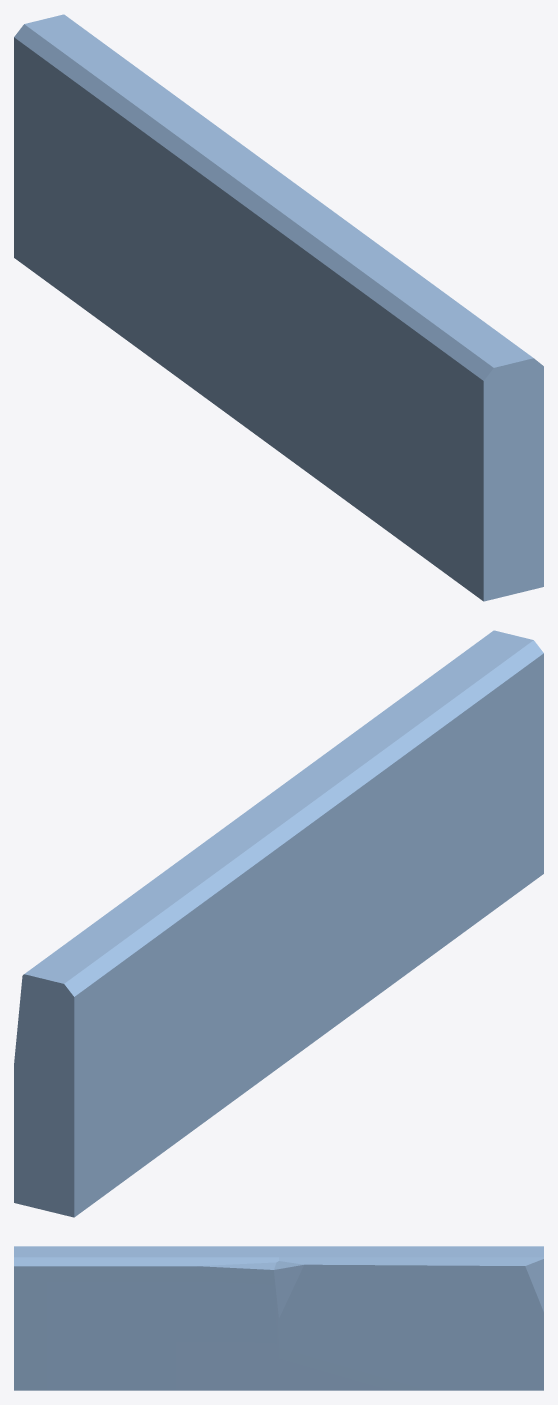
Rendered from wall_.fbx.
3 views of the same model, one above another, from view 1: azimuth 30°, elevation 25°; view 2: azimuth 150°, elevation 25°; view 3: azimuth 270°, elevation 25° (orthographic). The views are drawn at different scales.
Visible parts, largest first — view 1: duvar; view 2: duvar; view 3: duvar.
Part boxes in pixels (bbox=[...]): duvar: bbox=[14, 14, 543, 601]; duvar: bbox=[14, 630, 543, 1217]; duvar: bbox=[14, 1246, 543, 1390].
Bounding box in the file's own units: 126 × 462 × 1702.
